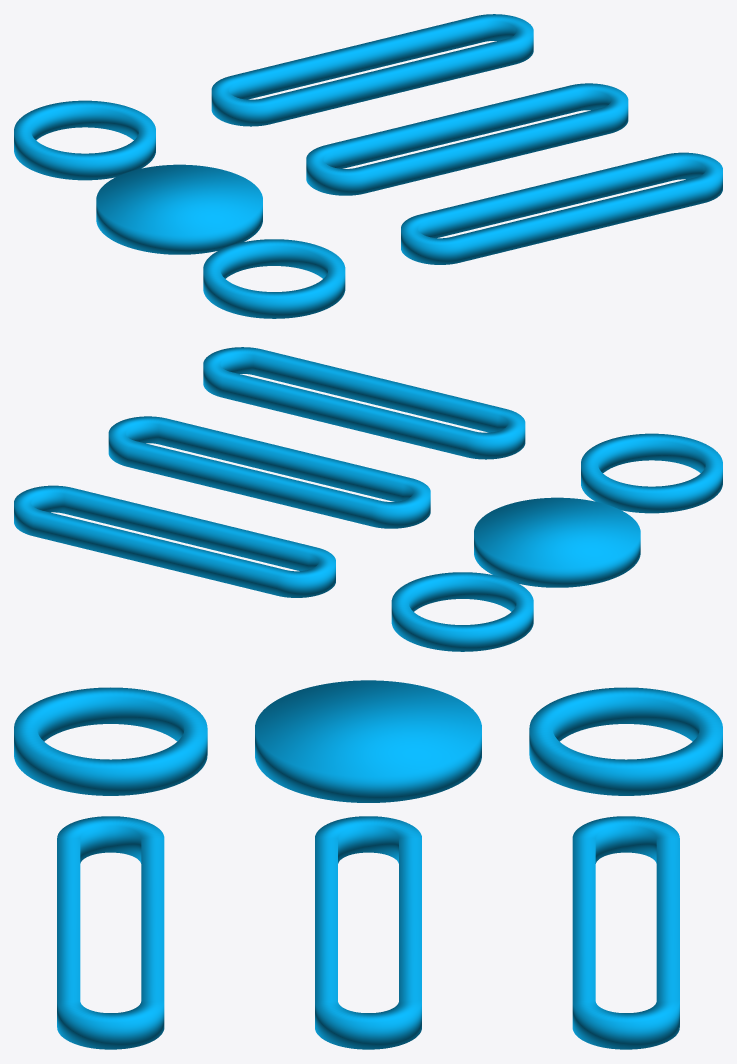
The model's file is prod-4296.glb.
3 views of the same model, one above another, from view 1: azimuth 30°, elevation 25°; view 2: azimuth 150°, elevation 25°; view 3: azimuth 270°, elevation 25° (orthographic). The views are drawn at different scales.
Visible parts, largest first — view 1: Barra_Central, Barra_Superior, Barra_Inferior, Circulo_Central_Solido, Circulo_Inferior, Circulo_Superior; view 2: Barra_Central, Barra_Inferior, Barra_Superior, Circulo_Central_Solido, Circulo_Superior, Circulo_Inferior; view 3: Circulo_Central_Solido, Barra_Inferior, Barra_Superior, Barra_Central, Circulo_Inferior, Circulo_Superior.
Part boxes in pixels (<box>): Barra_Central: <box>306,83,628,195</box>; Barra_Superior: <box>211,14,533,126</box>; Barra_Inferior: <box>401,152,722,264</box>; Circulo_Central_Solido: <box>96,164,262,254</box>; Circulo_Inferior: <box>203,239,345,318</box>; Circulo_Superior: <box>14,100,155,180</box>; Barra_Central: <box>108,416,430,528</box>; Barra_Inferior: <box>203,347,525,459</box>; Barra_Superior: <box>14,485,335,597</box>; Circulo_Central_Solido: <box>474,497,640,587</box>; Circulo_Superior: <box>391,572,533,651</box>; Circulo_Inferior: <box>581,433,722,513</box>; Circulo_Central_Solido: <box>255,680,481,802</box>; Barra_Inferior: <box>57,816,164,1049</box>; Barra_Superior: <box>572,816,679,1049</box>; Barra_Central: <box>315,816,421,1049</box>; Circulo_Inferior: <box>14,687,207,795</box>; Circulo_Superior: <box>529,687,722,795</box>.
Size of what is drawn, in the model's own units: 7.71 by 0.28 by 6.74.
